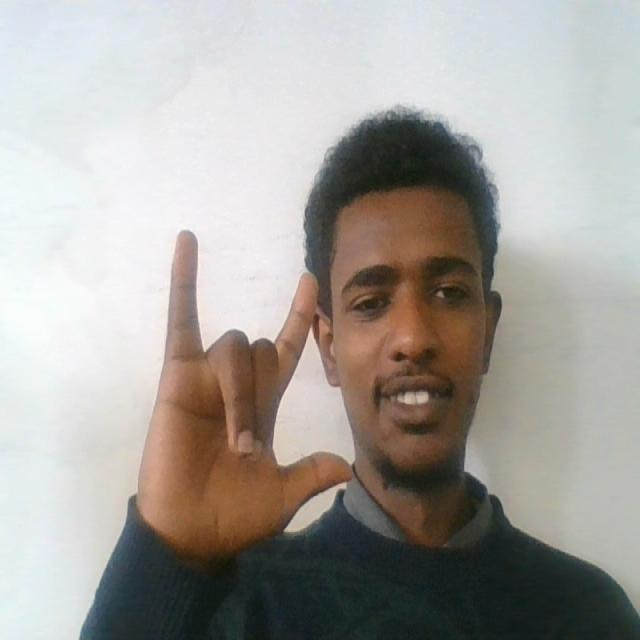iloveyou: (137, 222, 365, 561)
